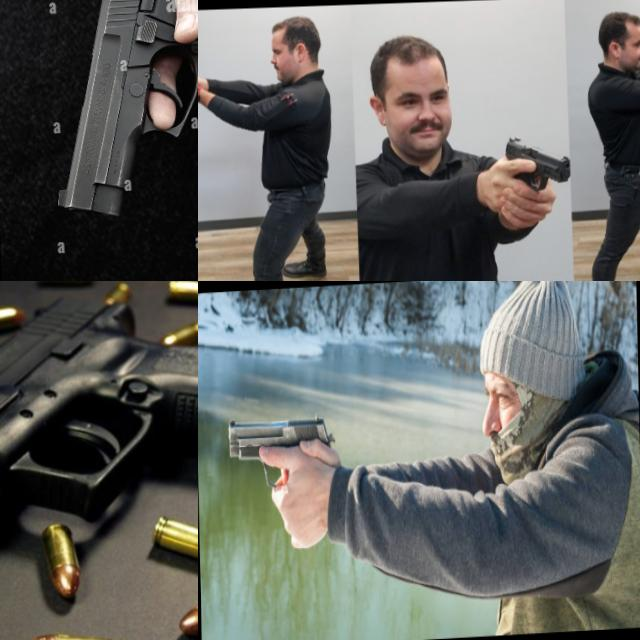handgun: (0, 281, 198, 583), (43, 0, 198, 224), (223, 408, 339, 500), (502, 130, 572, 198), (198, 60, 222, 87)
